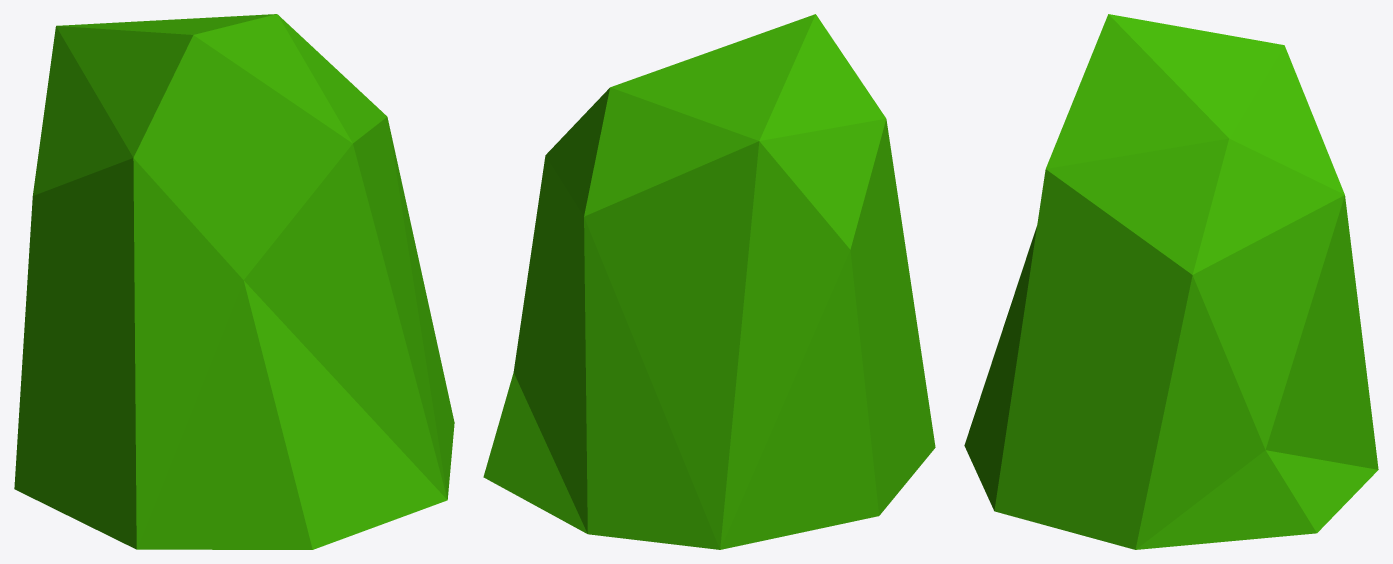
File: Bush5.FBX
3 views of the same model, side by side, from view 1: azimuth 30°, elevation 25°; view 2: azimuth 150°, elevation 25°; view 3: azimuth 270°, elevation 25° (orthographic). The views are drawn at different scales.
Parts seen in each view (by area): view 1: Bush5; view 2: Bush5; view 3: Bush5.
Part boxes in pixels (x1,y1,x2,y2): Bush5: [14, 14, 454, 549]; Bush5: [483, 14, 935, 549]; Bush5: [964, 14, 1378, 549].
Size of the model in its own units: 3525 by 3931 by 3548.
